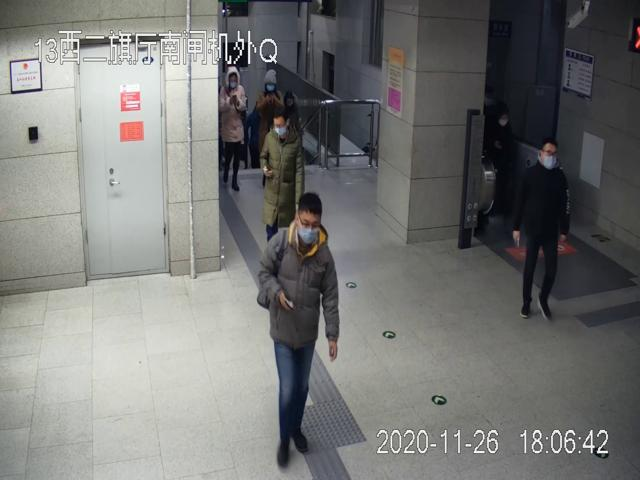person: (256, 191, 339, 465), (516, 137, 569, 323), (259, 110, 305, 245), (218, 65, 247, 190)
